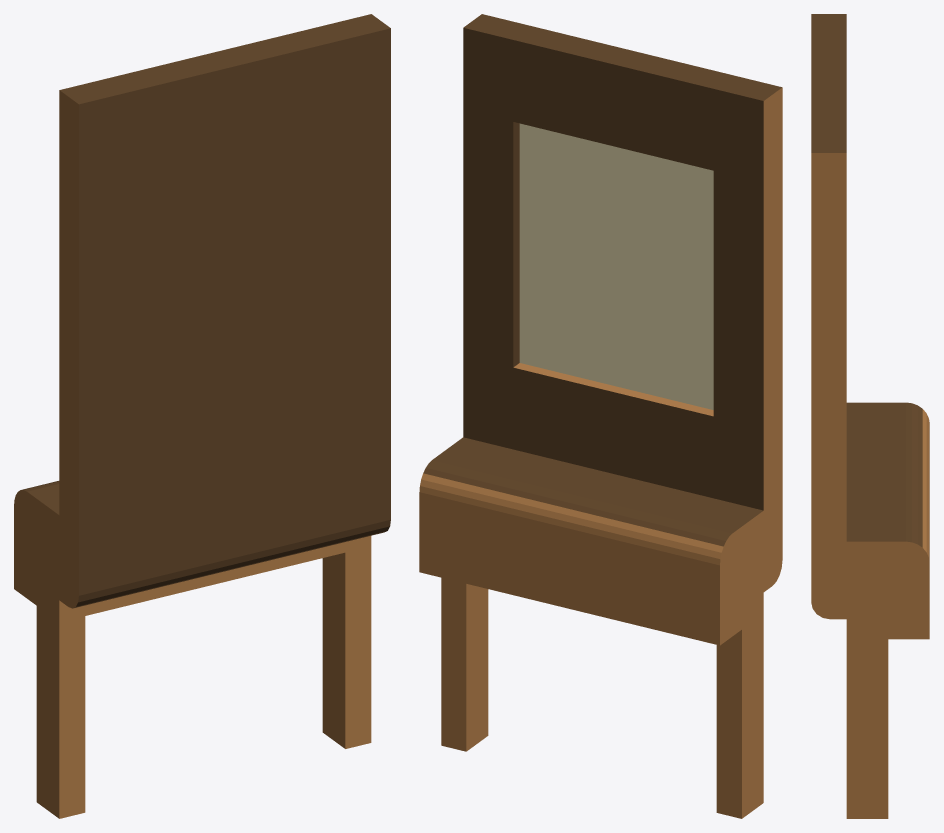
File: easel.glb
3 renders of one model, left to right at view 1: azimuth 30°, elevation 25°; view 2: azimuth 150°, elevation 25°; view 3: azimuth 270°, elevation 25°, orthographic. The views are drawn at different scales.
Visible parts, largest first — view 1: Cube; view 2: Cube; view 3: Cube.
Part boxes in pixels (left/top/right/bottom): Cube: left=14, top=14, right=390, bottom=818; Cube: left=419, top=14, right=782, bottom=818; Cube: left=811, top=14, right=929, bottom=818.
Bounding box in the file's own units: 2 × 4.46 × 0.7209.
Materials: 1 (1 with a texture image).
